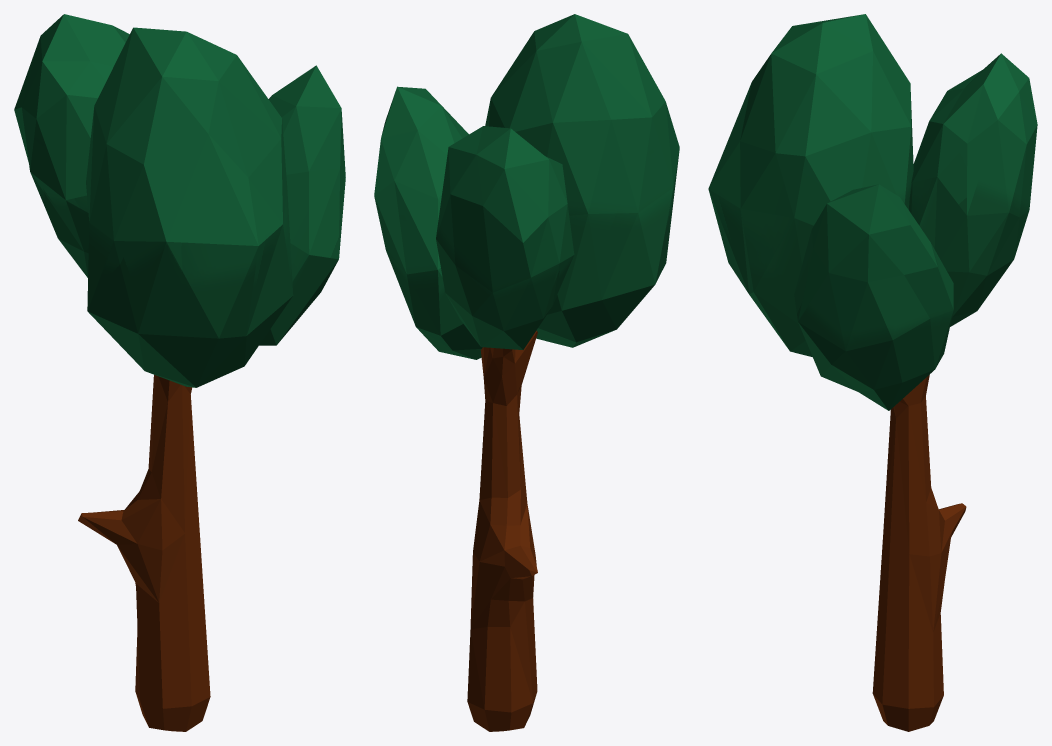
Rendered from tree8.fbx.
The picture shows the model from 3 angles, left to right: view 1: azimuth 30°, elevation 25°; view 2: azimuth 150°, elevation 25°; view 3: azimuth 270°, elevation 25°; orthographic projection. The views are drawn at different scales.
Visible parts, largest first — view 1: Cube; view 2: Cube; view 3: Cube.
Boxes of the visible parts, left/top/right/bottom form: Cube: left=14, top=14, right=345, bottom=731; Cube: left=374, top=14, right=679, bottom=731; Cube: left=708, top=14, right=1037, bottom=731.
Bounding box in the file's own units: 291 × 762 × 328.
Materials: 1 (1 with a texture image).
